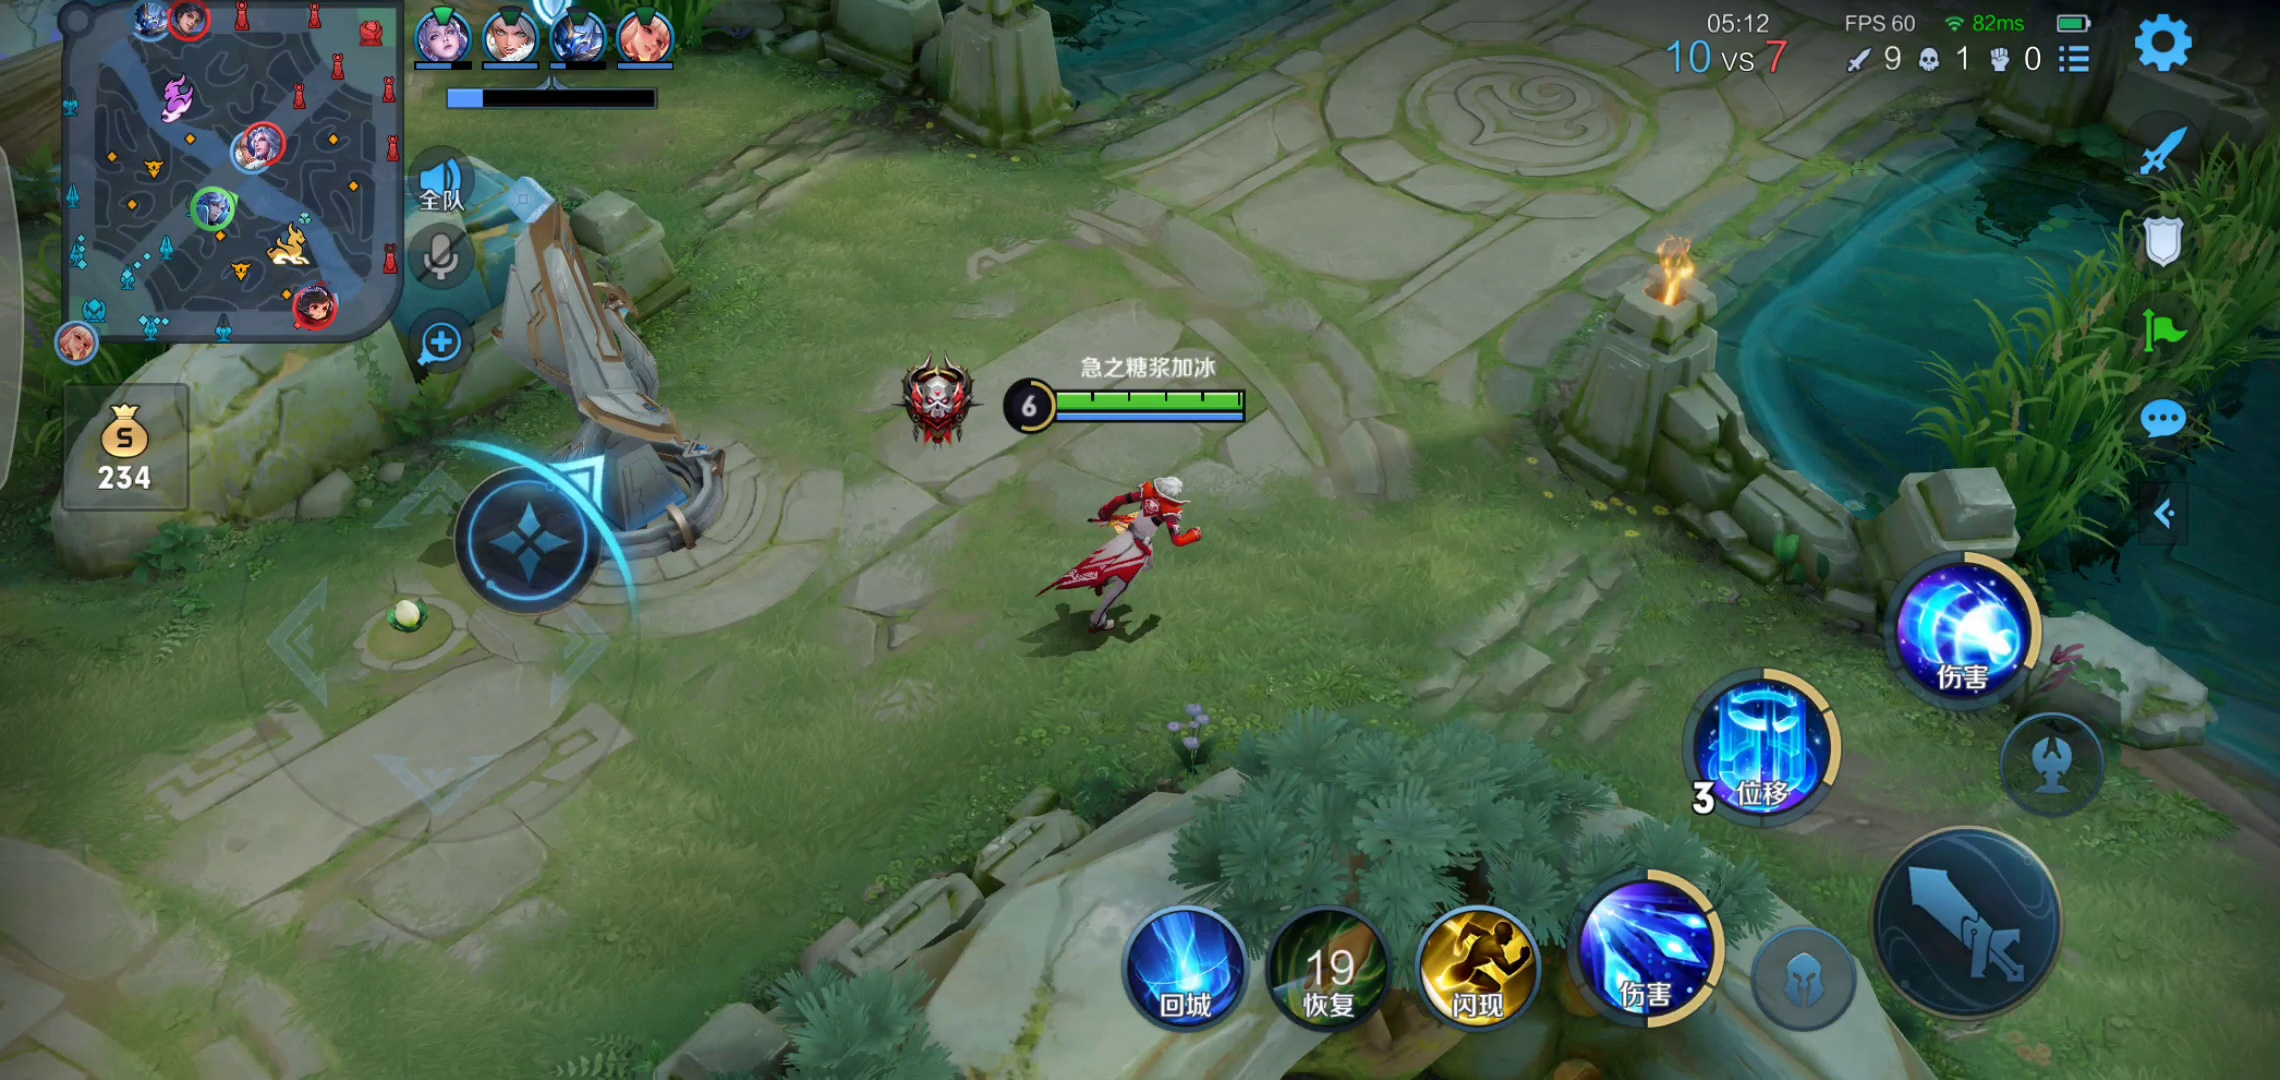grass: (1954, 121, 2279, 563)
hero: (1027, 458, 1224, 626)
tower: (451, 221, 712, 560)
